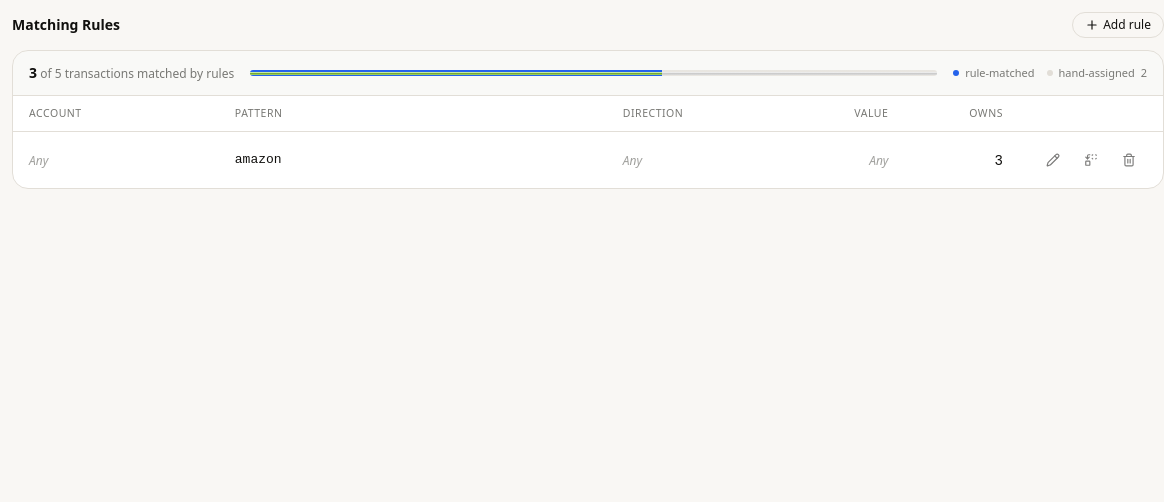
RulesSection — inline delete confirm › backs out of the inline confirm without deleting when cancelled
Click the button named "Delete rule amazon" at (1129, 160), box [1111,142,1147,178]
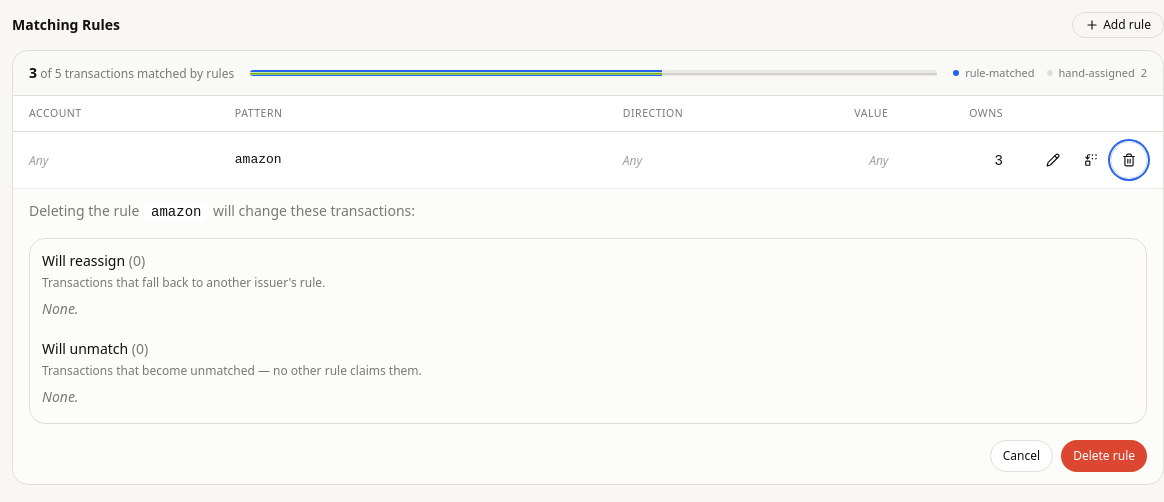
Click the button "Cancel" at (1022, 456), box [990,440,1053,472]
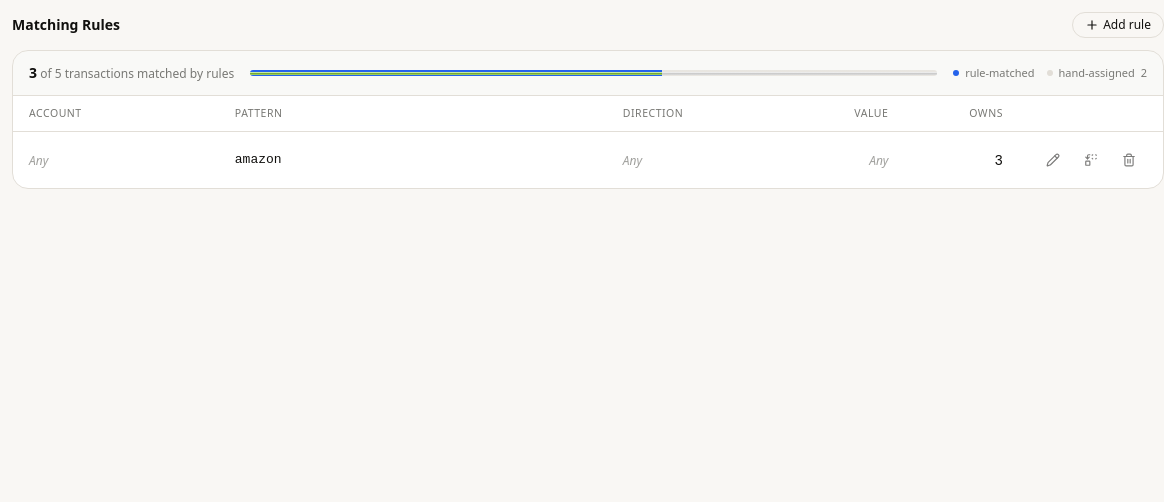
Result: the button "Delete rule" is gone
